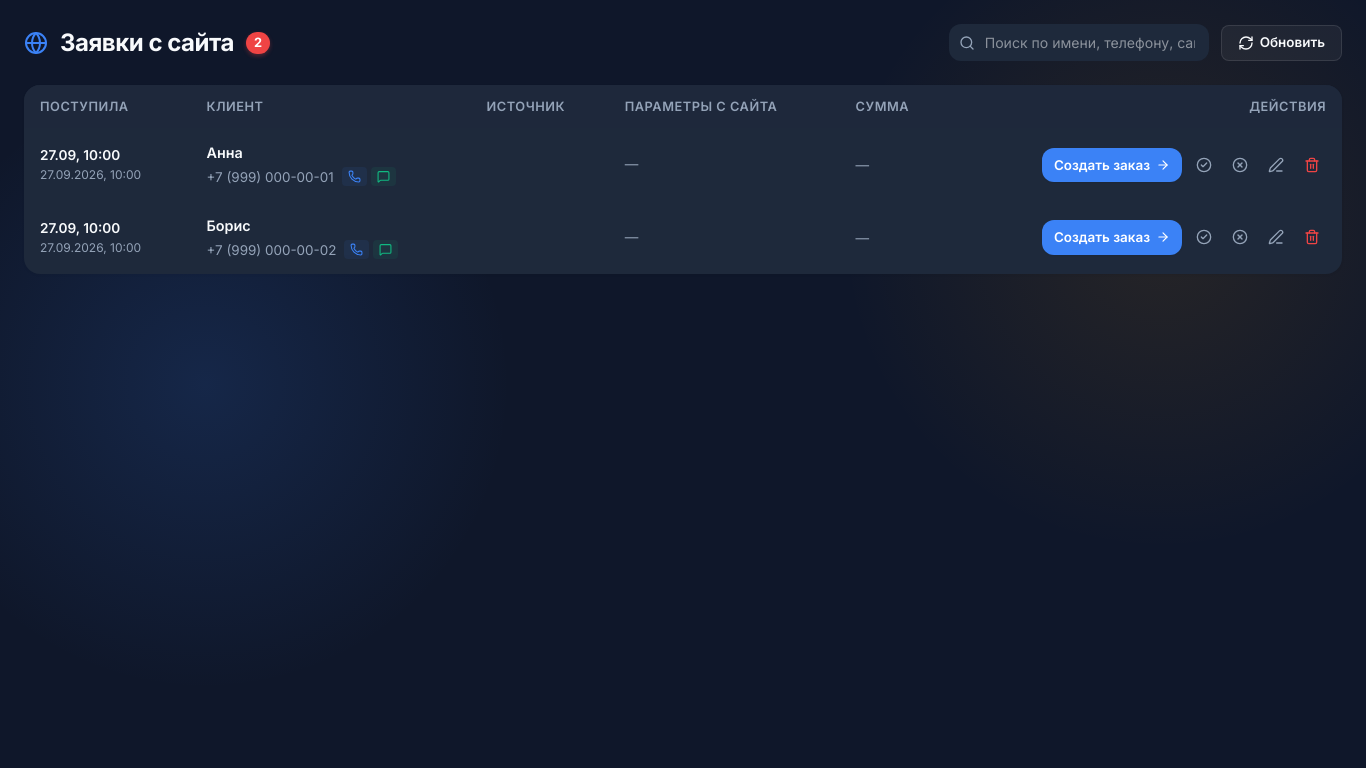
Test case: SiteRequests page › searches with a debounce and keeps the badge count unchanged
Type "Бор" into the field with placeholder "Поиск по имени, телефону, сайту...". click: {"x": 1079, "y": 43}
box: [949,24,1209,61]
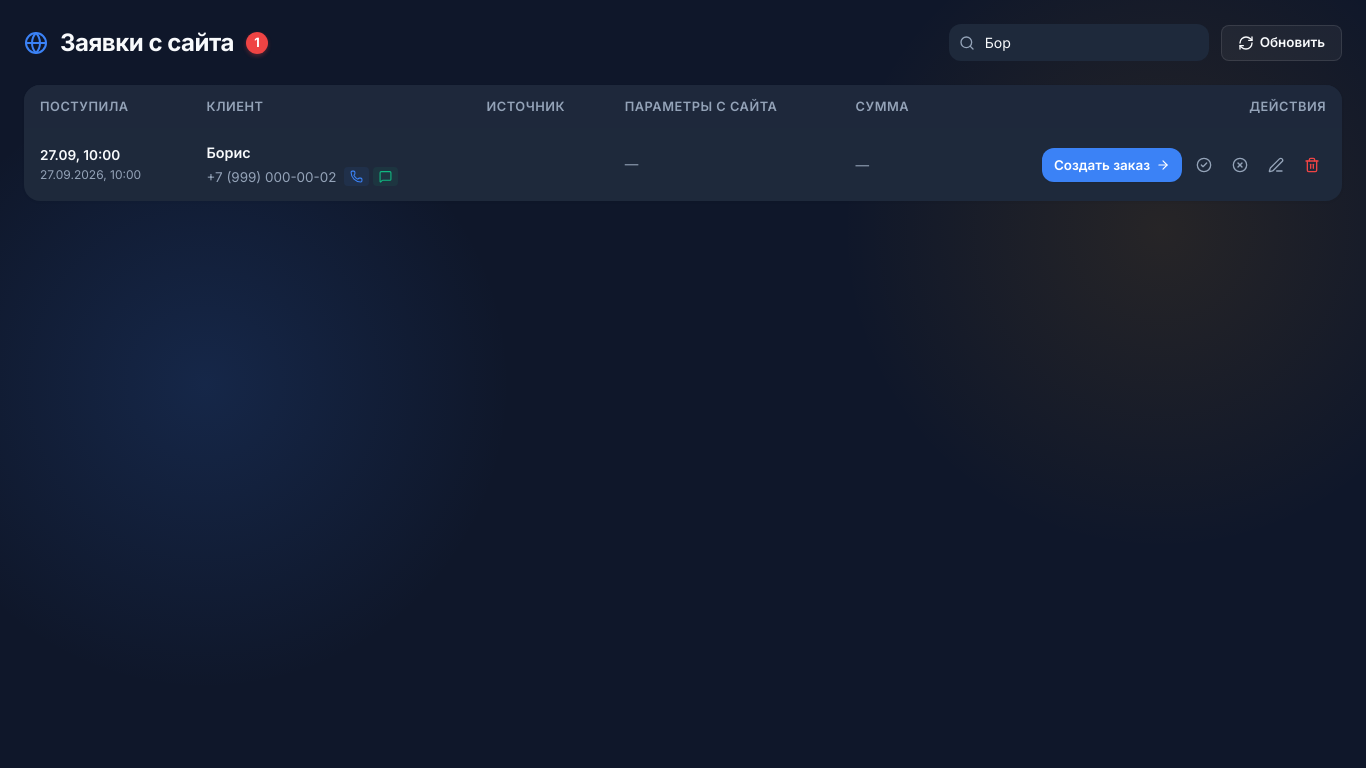
Result: the text "Анна" is not shown
